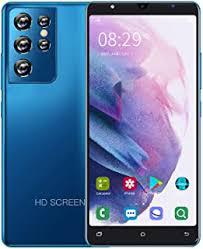Smartphone: (87, 0, 196, 246), (6, 4, 88, 241)
